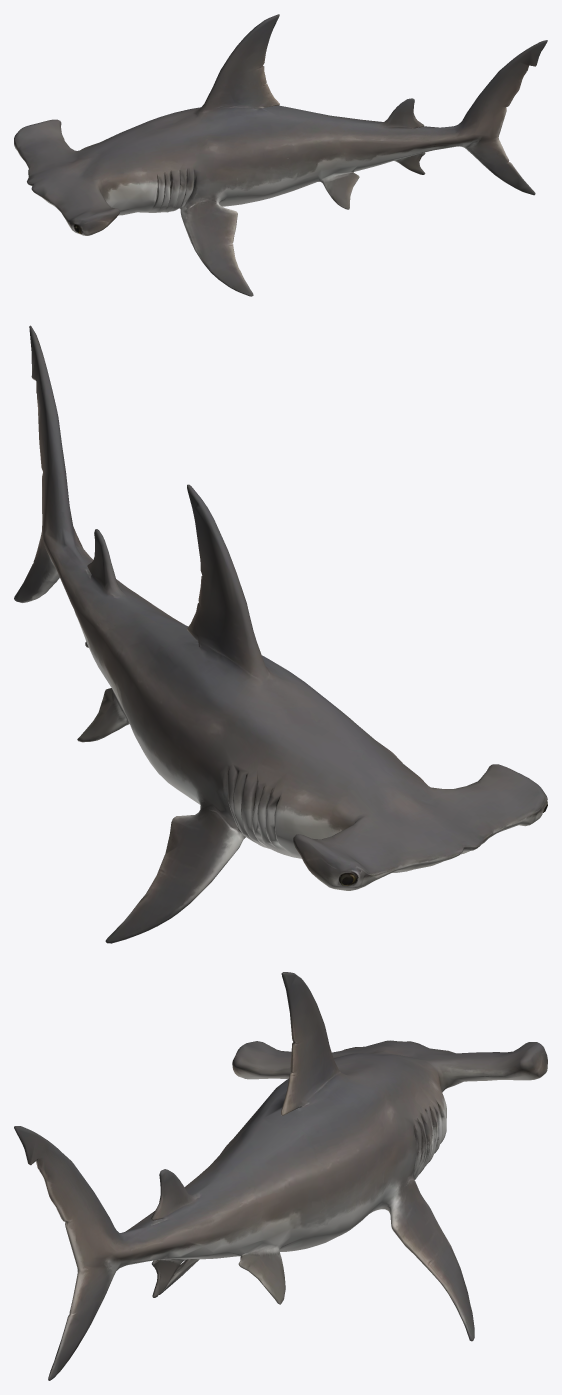
Rendered from fish-molot.glb.
3 views of the same model, one above another, from view 1: azimuth 30°, elevation 25°; view 2: azimuth 150°, elevation 25°; view 3: azimuth 270°, elevation 25° (orthographic). The views are drawn at different scales.
Visible parts, largest first — view 1: tripo_node_bdad26f2-0f68-4542-b6f3-c5b16885d079; view 2: tripo_node_bdad26f2-0f68-4542-b6f3-c5b16885d079; view 3: tripo_node_bdad26f2-0f68-4542-b6f3-c5b16885d079.
Part boxes in pixels (bbox=[...]): tripo_node_bdad26f2-0f68-4542-b6f3-c5b16885d079: bbox=[14, 14, 547, 296]; tripo_node_bdad26f2-0f68-4542-b6f3-c5b16885d079: bbox=[14, 325, 547, 943]; tripo_node_bdad26f2-0f68-4542-b6f3-c5b16885d079: bbox=[14, 972, 547, 1380].
Size of the model in its own units: 1 by 0.573 by 0.737.
Materials: 1 (1 with a texture image).
